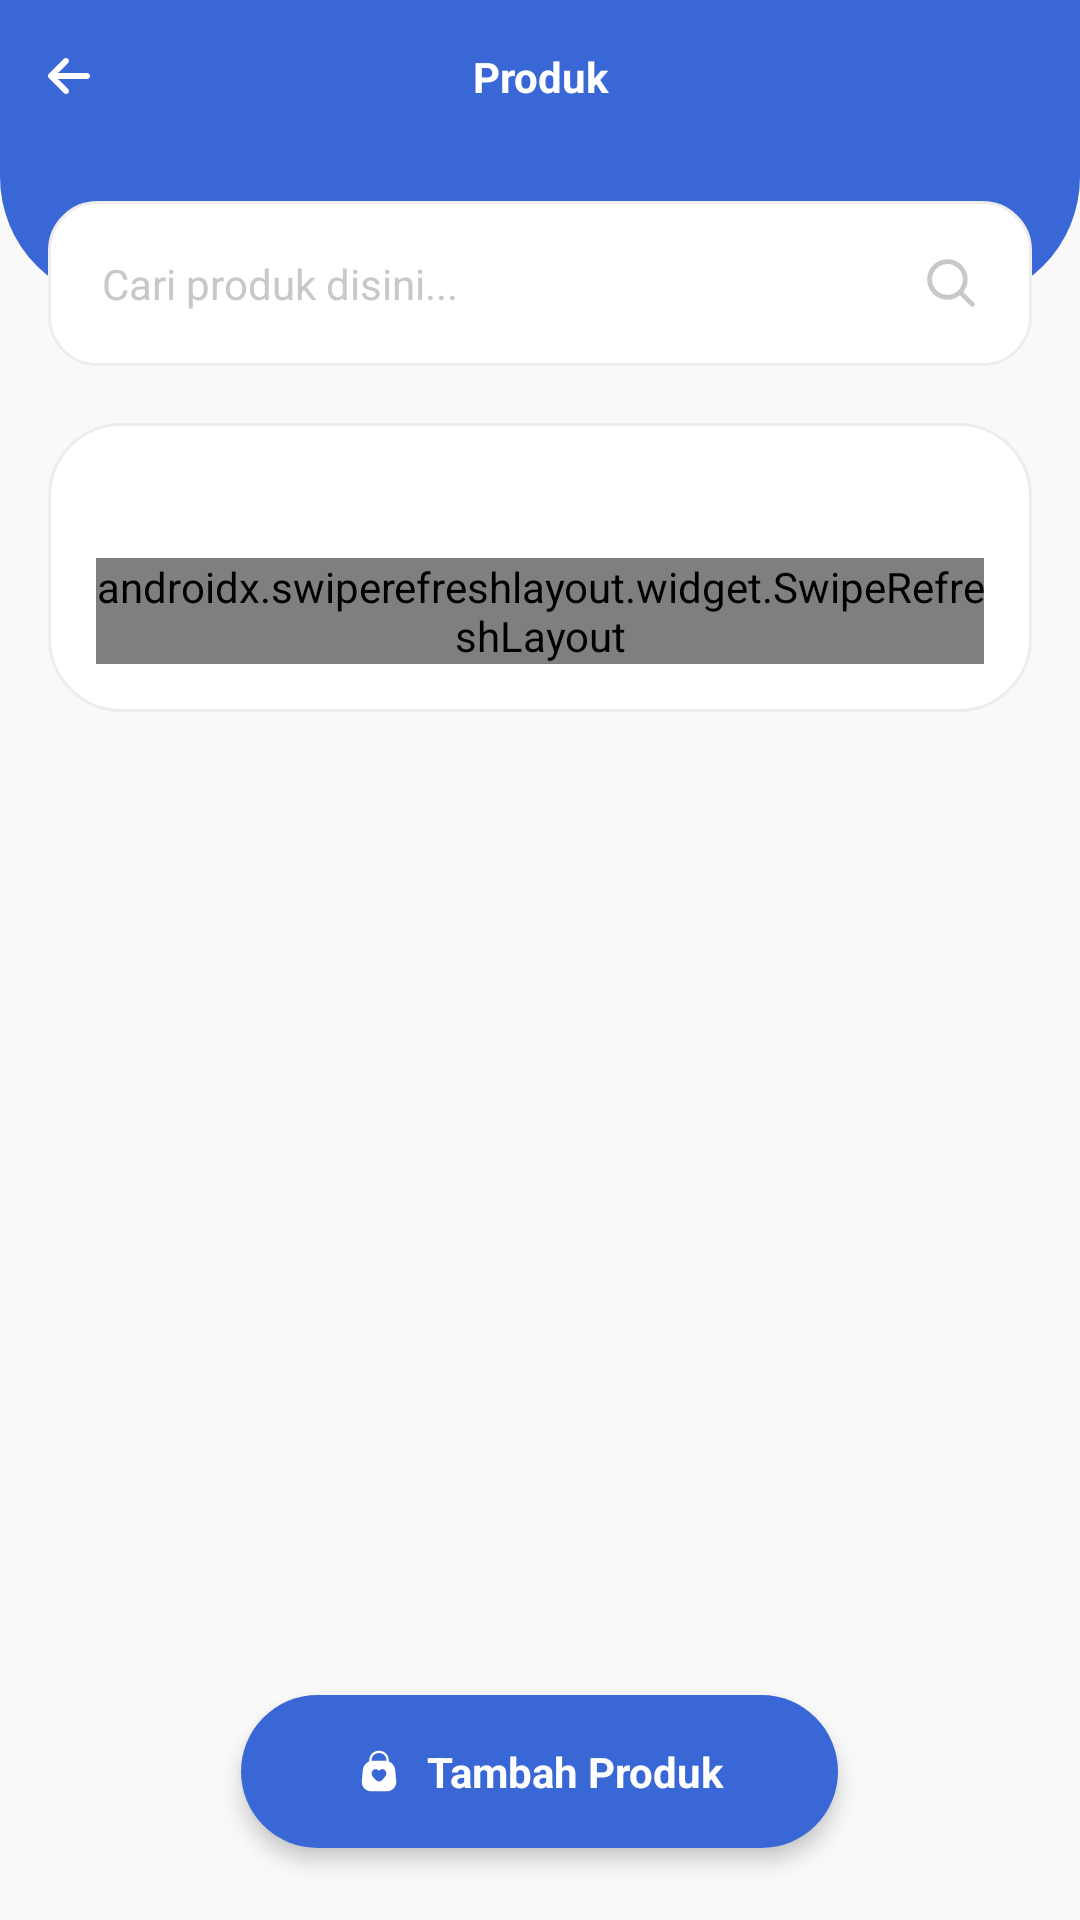

Screen size 1080x1920. Icon name, then its box in pixels as (x1, y1, x2, y2):
arrow: (48, 58, 90, 94)
